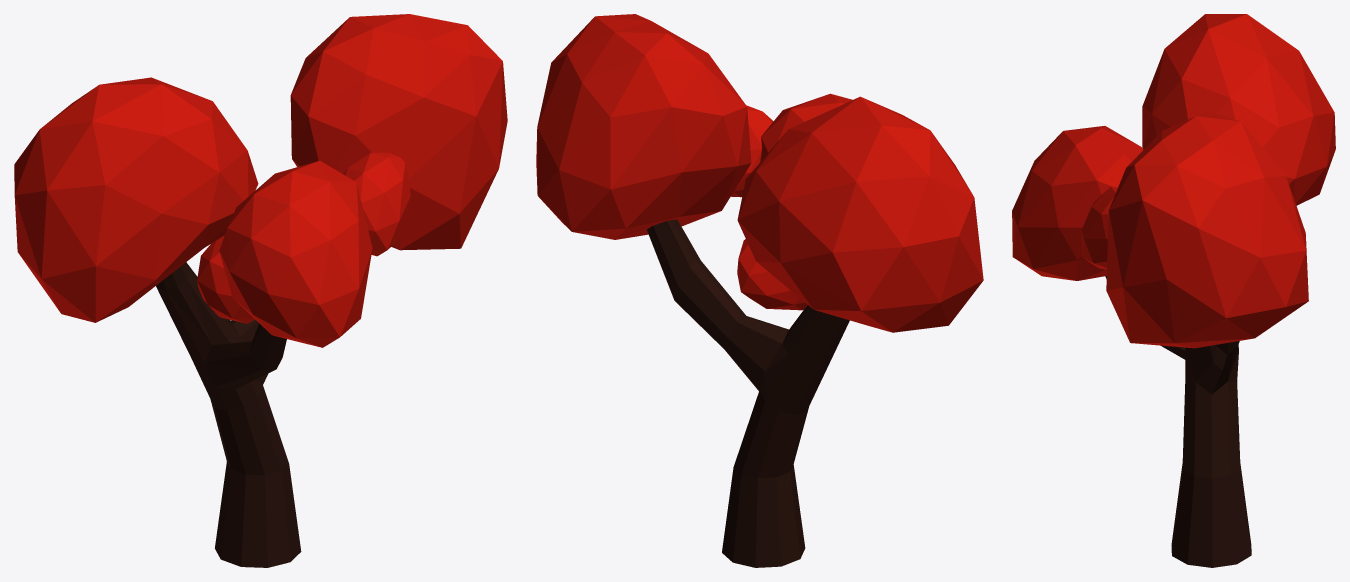
The model's file is t2-orange.obj.
The picture shows the model from 3 angles, left to right: view 1: azimuth 30°, elevation 25°; view 2: azimuth 150°, elevation 25°; view 3: azimuth 270°, elevation 25°; orthographic projection. The views are drawn at different scales.
Visible parts, largest first — view 1: t2-orange_Icosphere.022; view 2: t2-orange_Icosphere.022; view 3: t2-orange_Icosphere.022.
Part boxes in pixels (x1,y1,x2,y2): t2-orange_Icosphere.022: [14, 14, 507, 567]; t2-orange_Icosphere.022: [536, 14, 983, 567]; t2-orange_Icosphere.022: [1012, 14, 1335, 567].
Size of the model in its own units: 6.73 by 7.18 by 4.35.
